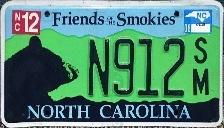1: (136, 37, 161, 97)
2: (161, 36, 189, 96)
9: (111, 36, 136, 96)
N: (84, 37, 111, 97)
